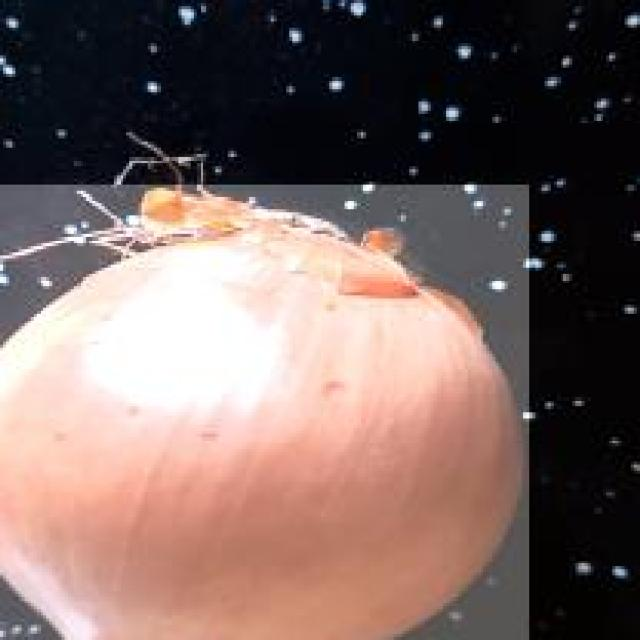onion: (0, 181, 532, 640)
